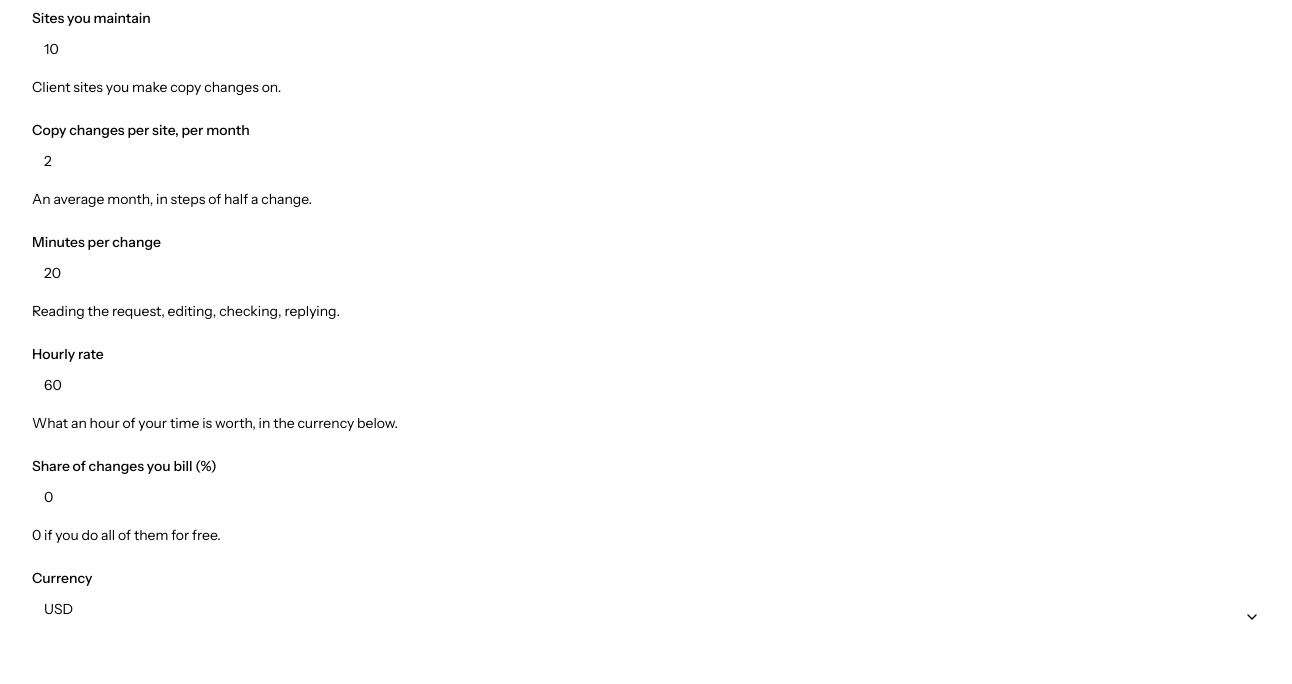
Test: CostCalculator › shows a card preview whose text equals the snippet's text
Replace the text in the number field labelled "Sites you maintain" with "7" at (652, 49), box [32,29,1272,69]
(page scrolled)
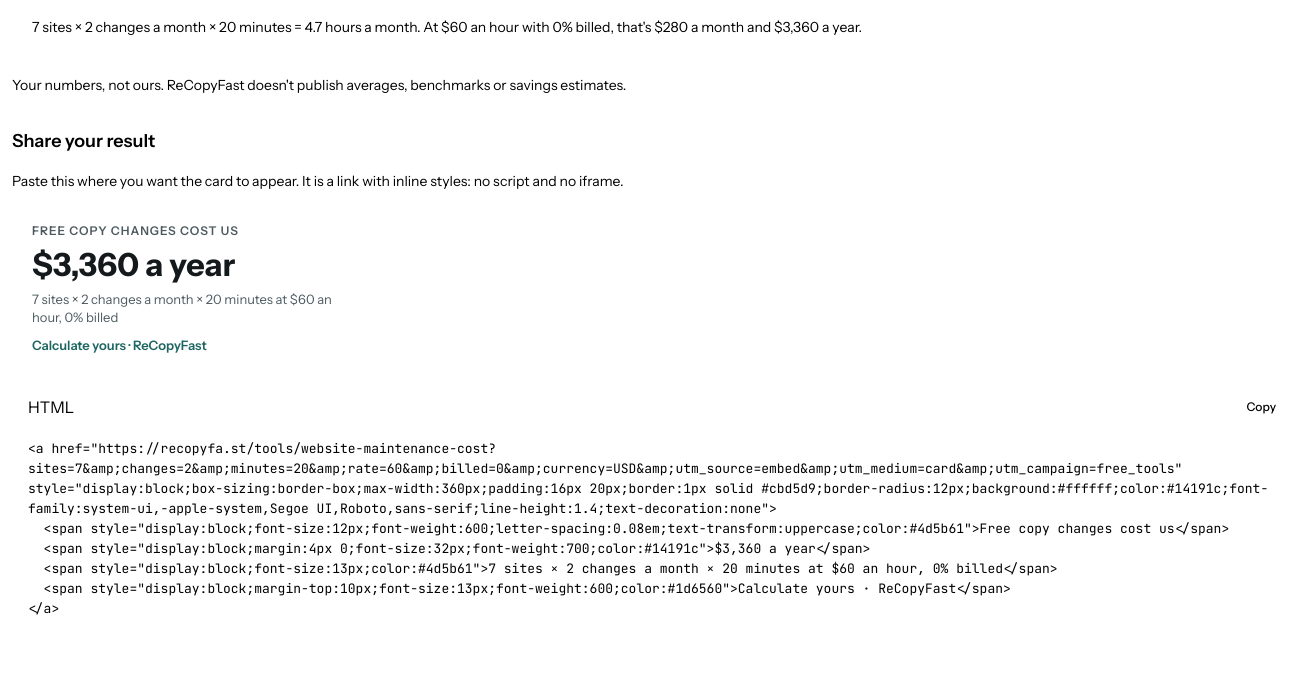
Expected: the text "Free copy changes cost us" is shown, [32,223,239,238]
Expected: the text "Calculate yours · ReCopyFast" is shown, [32,337,207,353]
